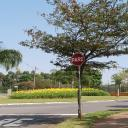Pare: (70, 52, 85, 66)
